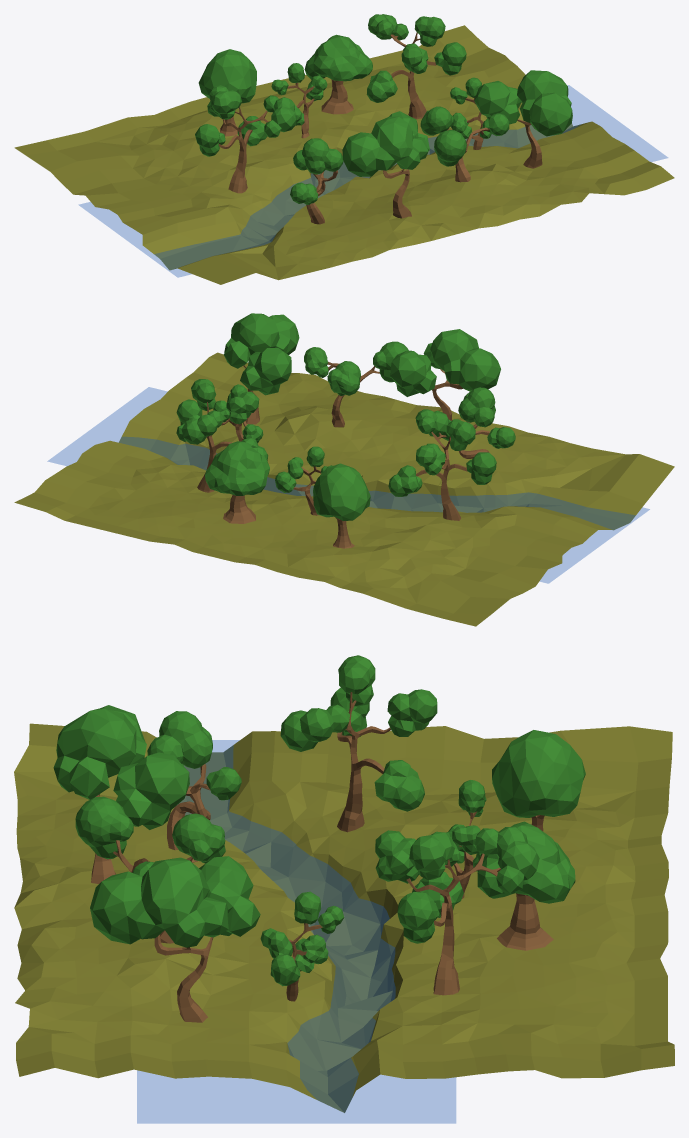
The picture shows the model from 3 angles, top to bottom: view 1: azimuth 30°, elevation 25°; view 2: azimuth 150°, elevation 25°; view 3: azimuth 270°, elevation 25°; orthographic projection. The views are drawn at different scales.
Parts seen in each view (by area): view 1: Terre, Eau, LowPoly Tree 07.001, LowPoly Tree 07, LowPoly Tree 04.001, LowPoly Tree 04, LowPoly Tree 02, LowPoly Tree 03, LowPoly Tree 01, LowPoly Tree 06, LowPoly Tree 05, LowPoly Tree 05.001; view 2: Terre, Eau, LowPoly Tree 07, LowPoly Tree 07.001, LowPoly Tree 04, LowPoly Tree 04.001, LowPoly Tree 02, LowPoly Tree 01, LowPoly Tree 03, LowPoly Tree 06, LowPoly Tree 05, LowPoly Tree 05.001; view 3: Terre, Eau, LowPoly Tree 07.001, LowPoly Tree 07, LowPoly Tree 04.001, LowPoly Tree 04, LowPoly Tree 01, LowPoly Tree 02, LowPoly Tree 03, LowPoly Tree 06, LowPoly Tree 05.001, LowPoly Tree 05.
Boxes of the visible parts, left/top/right/bottom form: Terre: left=14, top=25, right=674, bottom=284; Eau: left=79, top=85, right=667, bottom=277; LowPoly Tree 07.001: left=474, top=70, right=572, bottom=168; LowPoly Tree 07: left=342, top=111, right=429, bottom=218; LowPoly Tree 04.001: left=366, top=14, right=466, bottom=119; LowPoly Tree 04: left=195, top=85, right=296, bottom=193; LowPoly Tree 02: left=304, top=34, right=372, bottom=114; LowPoly Tree 03: left=420, top=106, right=509, bottom=182; LowPoly Tree 01: left=198, top=49, right=256, bottom=136; LowPoly Tree 06: left=290, top=138, right=343, bottom=224; LowPoly Tree 05: left=271, top=63, right=327, bottom=138; LowPoly Tree 05.001: left=450, top=77, right=483, bottom=149; Terre: left=14, top=352, right=674, bottom=626; Eau: left=47, top=387, right=649, bottom=583; LowPoly Tree 07: left=390, top=329, right=500, bottom=420; LowPoly Tree 07.001: left=223, top=313, right=299, bottom=424; LowPoly Tree 04: left=388, top=409, right=496, bottom=520; LowPoly Tree 04.001: left=176, top=379, right=268, bottom=492; LowPoly Tree 02: left=205, top=441, right=269, bottom=523; LowPoly Tree 01: left=313, top=463, right=370, bottom=548; LowPoly Tree 03: left=304, top=341, right=408, bottom=427; LowPoly Tree 06: left=443, top=387, right=515, bottom=458; LowPoly Tree 05: left=275, top=446, right=333, bottom=515; LowPoly Tree 05.001: left=213, top=384, right=263, bottom=443; Terre: left=14, top=723, right=674, bottom=1112; Eau: left=137, top=740, right=455, bottom=1123; LowPoly Tree 07.001: left=90, top=856, right=260, bottom=1022; LowPoly Tree 07: left=53, top=705, right=189, bottom=883; LowPoly Tree 04.001: left=375, top=827, right=539, bottom=995; LowPoly Tree 04: left=280, top=655, right=437, bottom=832; LowPoly Tree 01: left=492, top=730, right=585, bottom=831; LowPoly Tree 02: left=477, top=821, right=575, bottom=950; LowPoly Tree 03: left=75, top=796, right=225, bottom=943; LowPoly Tree 06: left=147, top=711, right=241, bottom=850; LowPoly Tree 05.001: left=260, top=891, right=344, bottom=1001; LowPoly Tree 05: left=445, top=780, right=486, bottom=898.
Size of the model in its own units: 50.55 by 14.12 by 36.8.
